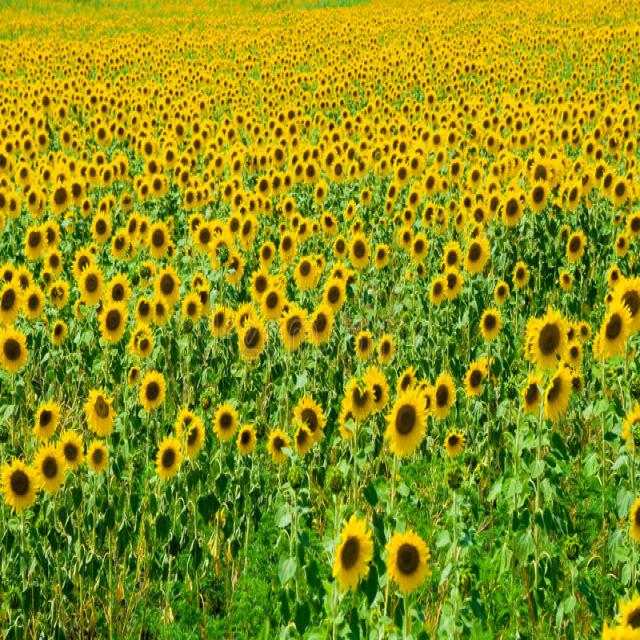sunflower: (321, 506, 376, 591), (387, 524, 434, 603), (384, 382, 428, 463), (530, 309, 572, 384), (592, 296, 630, 374), (542, 362, 574, 428), (1, 461, 37, 514), (277, 302, 311, 358), (82, 390, 126, 433), (0, 327, 38, 376), (30, 442, 64, 494), (292, 392, 325, 445), (178, 417, 212, 462), (474, 295, 504, 346), (310, 300, 338, 354), (429, 366, 454, 422), (137, 371, 169, 414), (75, 262, 102, 310), (148, 222, 175, 270), (267, 428, 294, 474), (22, 221, 50, 264), (100, 300, 127, 344), (157, 433, 181, 482), (238, 317, 264, 362), (524, 176, 550, 221), (58, 426, 82, 474), (294, 252, 318, 300), (211, 402, 239, 443), (464, 350, 486, 402), (32, 400, 59, 442), (88, 440, 112, 484), (461, 238, 491, 273), (24, 278, 45, 324), (235, 423, 259, 462), (348, 231, 368, 277), (90, 208, 112, 246), (250, 272, 274, 306), (564, 230, 587, 264), (181, 289, 201, 328), (134, 297, 156, 332), (194, 218, 216, 253), (50, 182, 73, 214), (410, 230, 428, 267), (208, 305, 230, 335), (372, 240, 390, 273)
